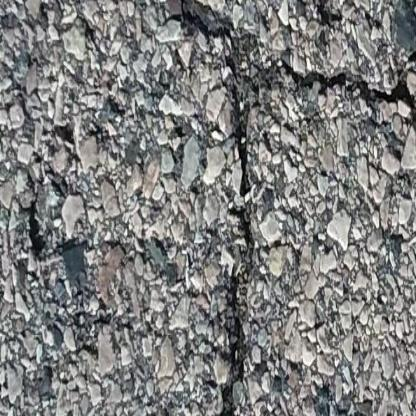Cracks: (132, 0, 416, 416)
